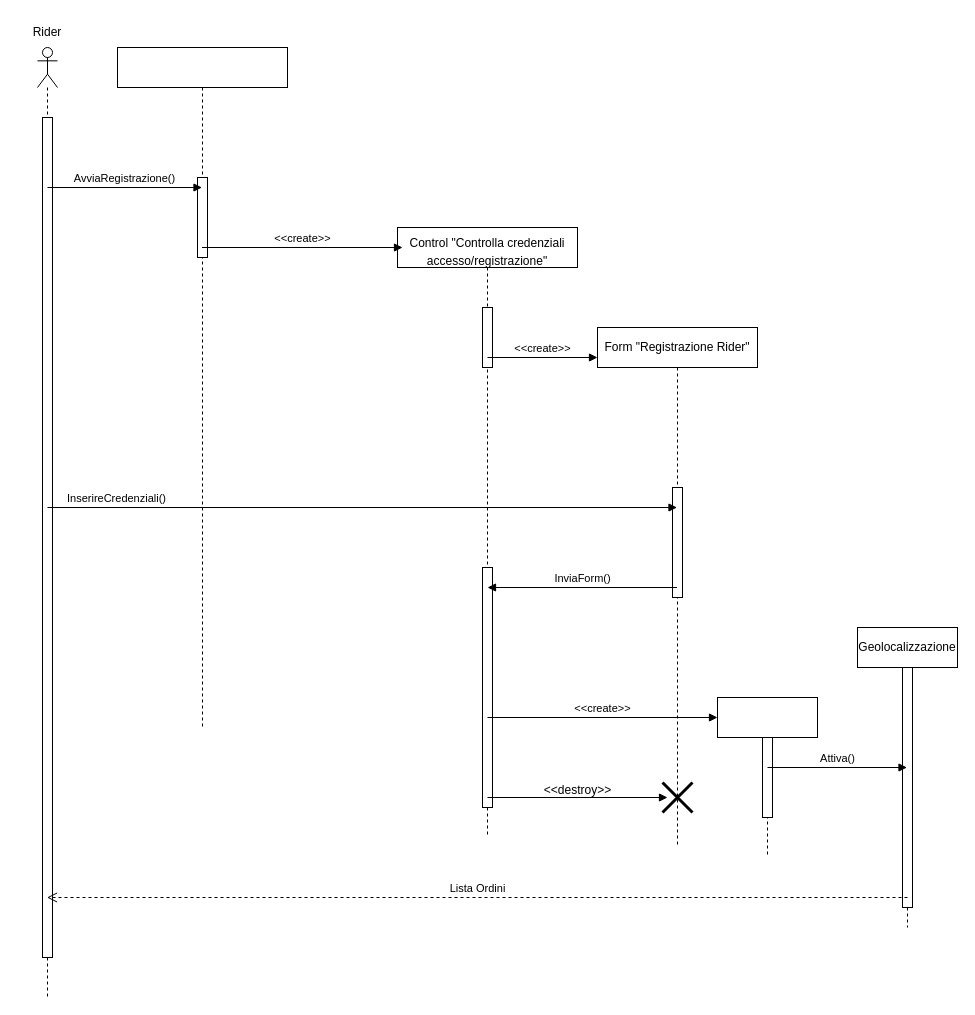
Some shapes in this 975 by 1015 pixel diagram are drawn without their labels. The box of each missing label's shape, as (x1, y1, x2, y2) in pixels:
Bottone "Registrazione Rider": (116, 46, 288, 728)
Profilo: (716, 696, 818, 858)
